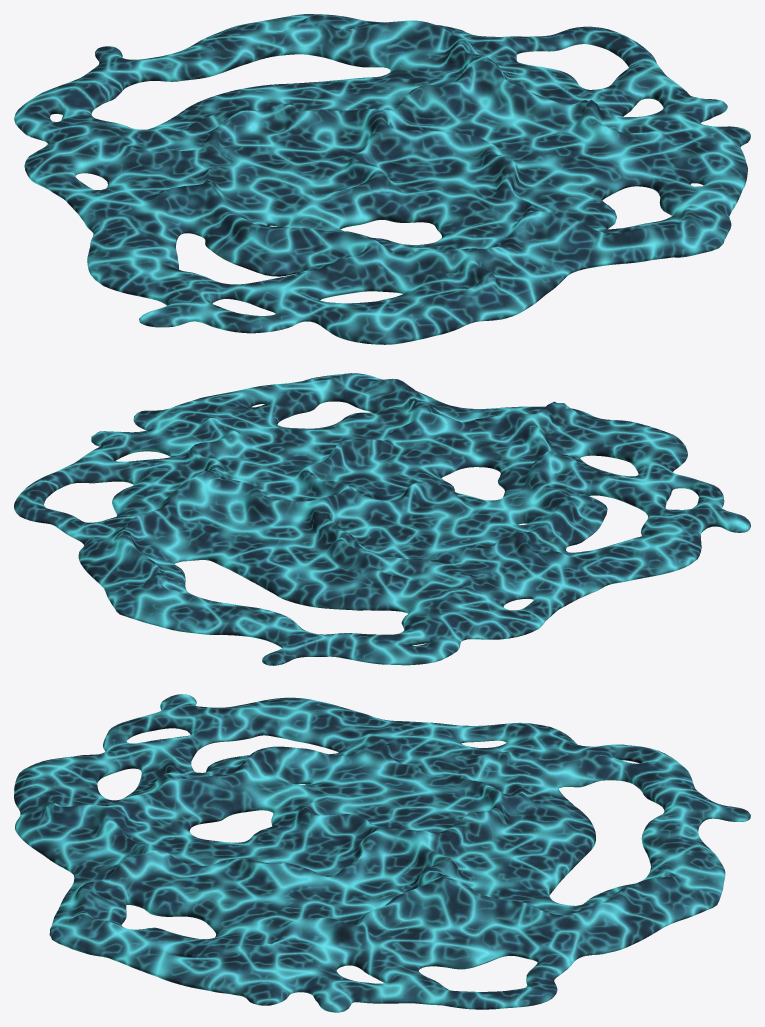
Rendered from caos_stl_chaosgrowth_01b_soma_v36.glb.
The picture shows the model from 3 angles, top to bottom: view 1: azimuth 30°, elevation 25°; view 2: azimuth 150°, elevation 25°; view 3: azimuth 270°, elevation 25°; orthographic projection. The views are drawn at different scales.
Visible parts, largest first — view 1: caos_stl_chaosgrowth_01b; view 2: caos_stl_chaosgrowth_01b; view 3: caos_stl_chaosgrowth_01b.
Boxes of the visible parts, left/top/right/bottom form: caos_stl_chaosgrowth_01b: left=14, top=14, right=750, bottom=344; caos_stl_chaosgrowth_01b: left=14, top=373, right=750, bottom=665; caos_stl_chaosgrowth_01b: left=14, top=694, right=750, bottom=1012.
Bounding box in the file's own units: 14.71 × 1.05 × 14.54.
Materials: 1 (1 with a texture image).
